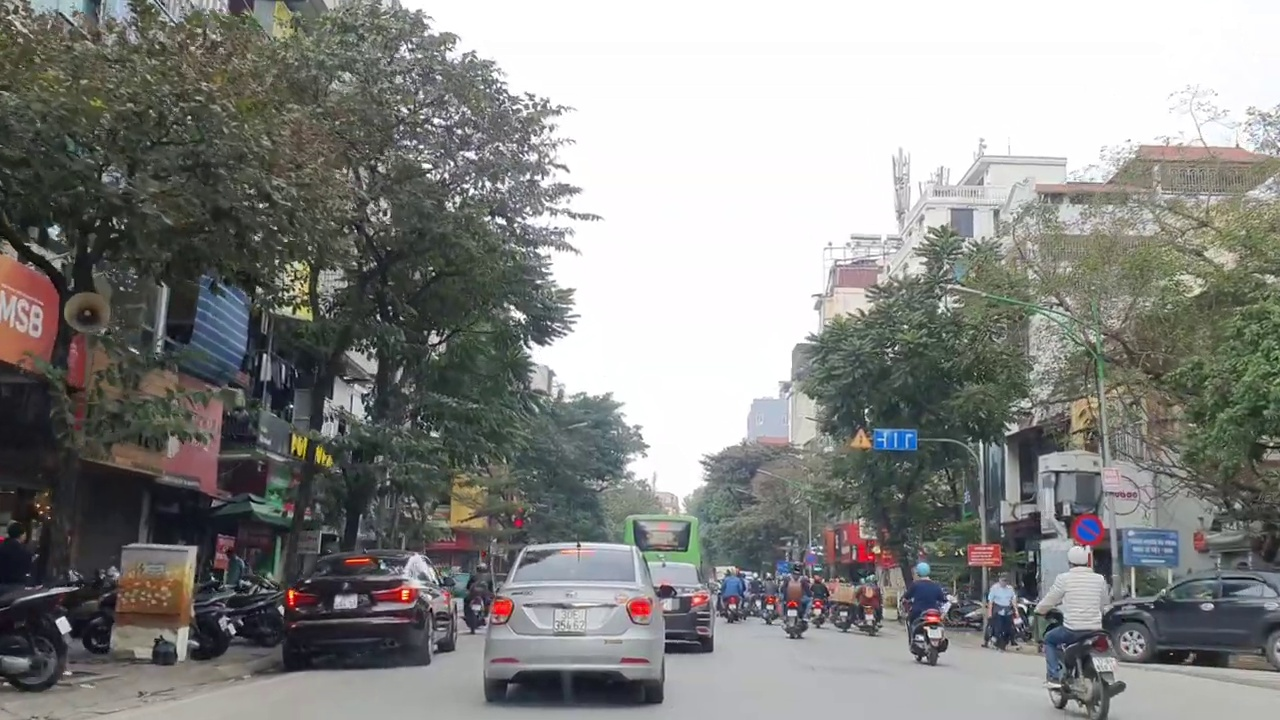person: (332, 591, 362, 610), (1094, 654, 1118, 671)
